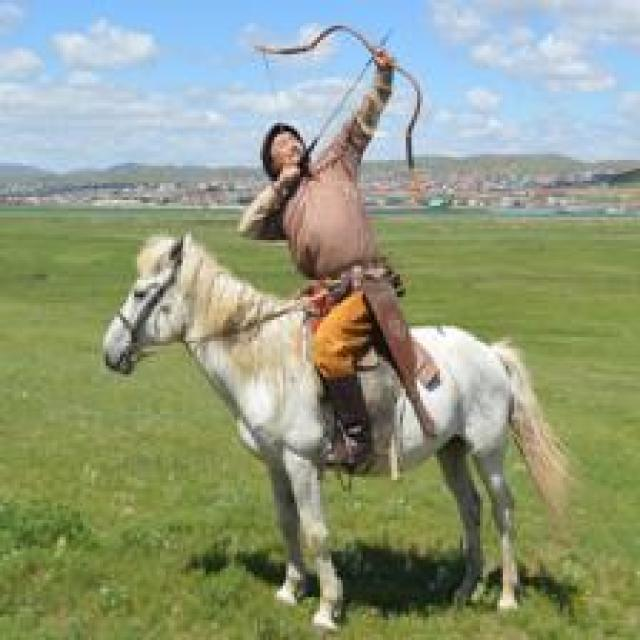Horse: (87, 230, 564, 610)
X-Bow: (261, 9, 453, 154)
